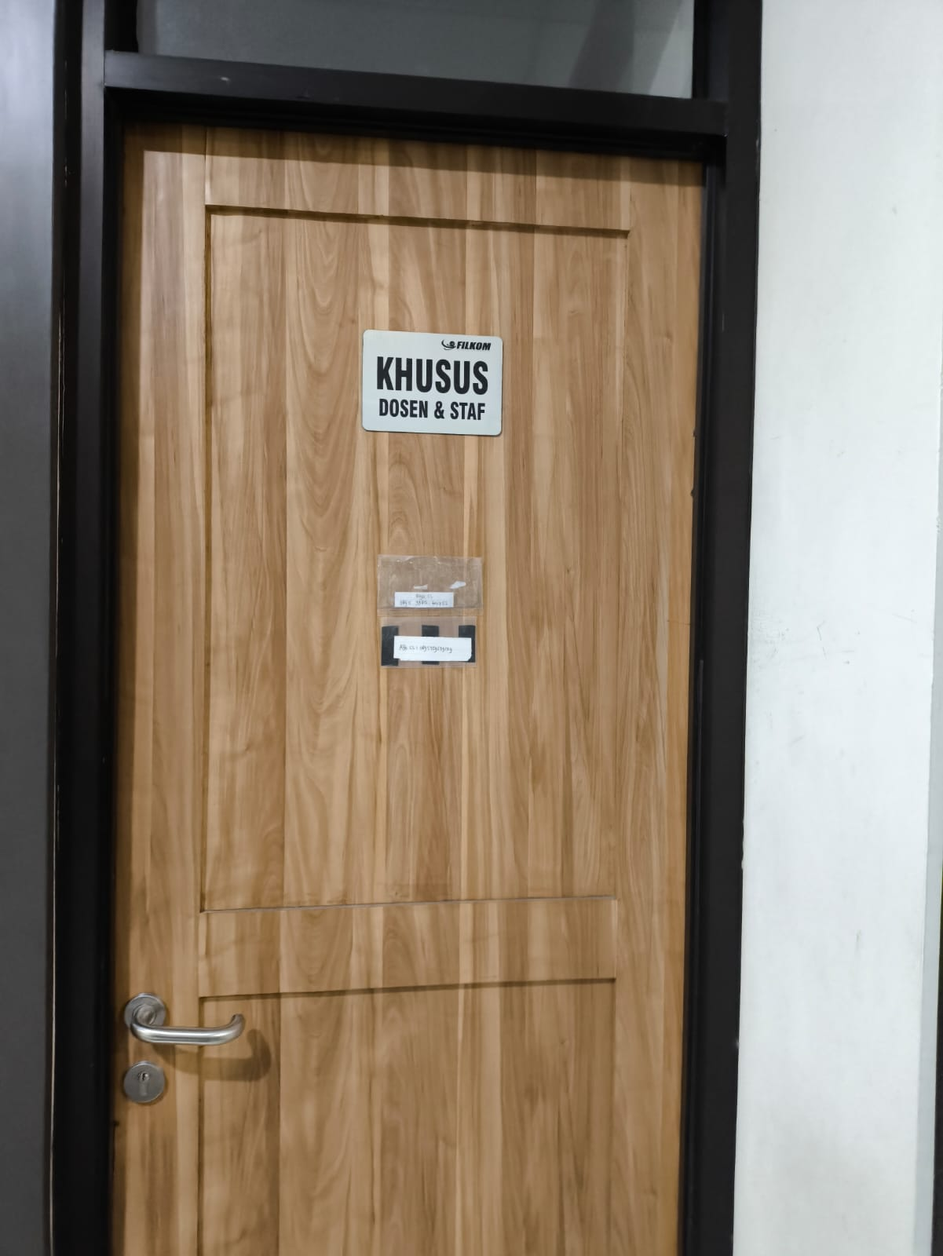ruang khusus dosen dan staff: (352, 324, 507, 440)
